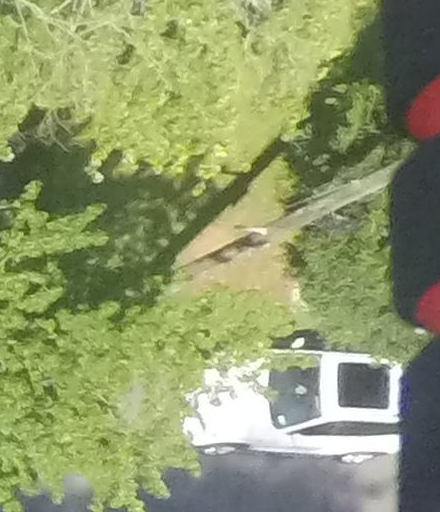car: (168, 326, 422, 473)
